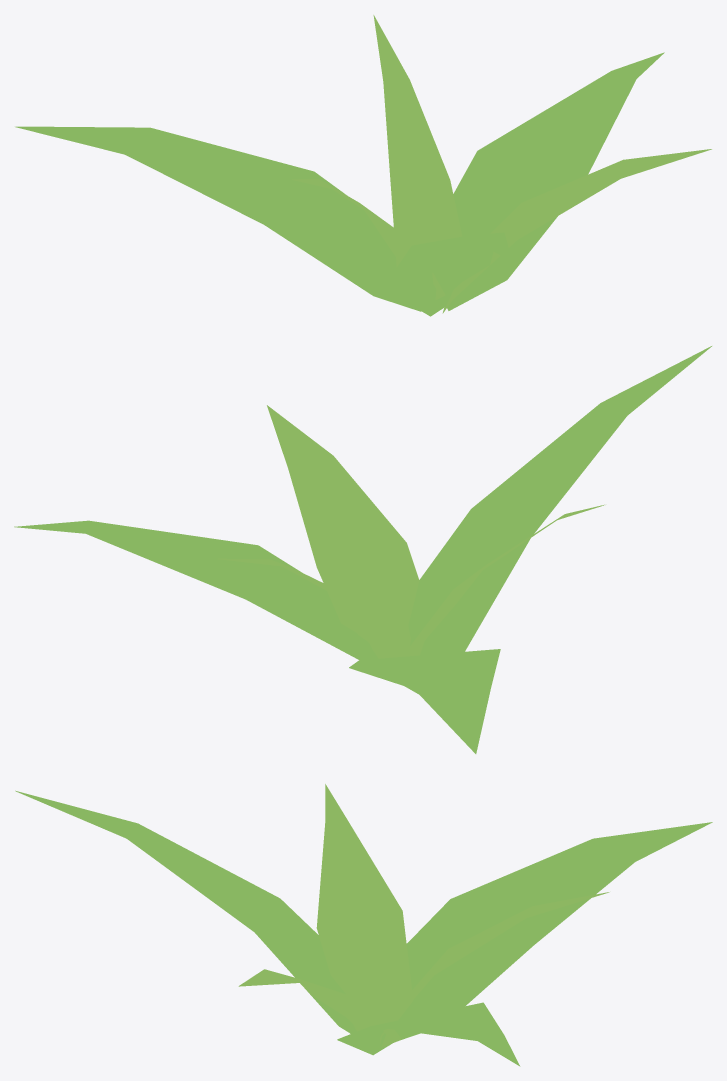
Rendered from Plant_a_TwoS_06.fbx.
The picture shows the model from 3 angles, top to bottom: view 1: azimuth 30°, elevation 25°; view 2: azimuth 150°, elevation 25°; view 3: azimuth 270°, elevation 25°; orthographic projection. The views are drawn at different scales.
Visible parts, largest first — view 1: Plant_a_TwoS_06; view 2: Plant_a_TwoS_06; view 3: Plant_a_TwoS_06.
Boxes of the visible parts, <box> form: Plant_a_TwoS_06: <box>15,15,711,316</box>; Plant_a_TwoS_06: <box>14,346,711,753</box>; Plant_a_TwoS_06: <box>15,784,712,1066</box>.
Size of the model in its own units: 1.65 by 0.6193 by 1.89.
